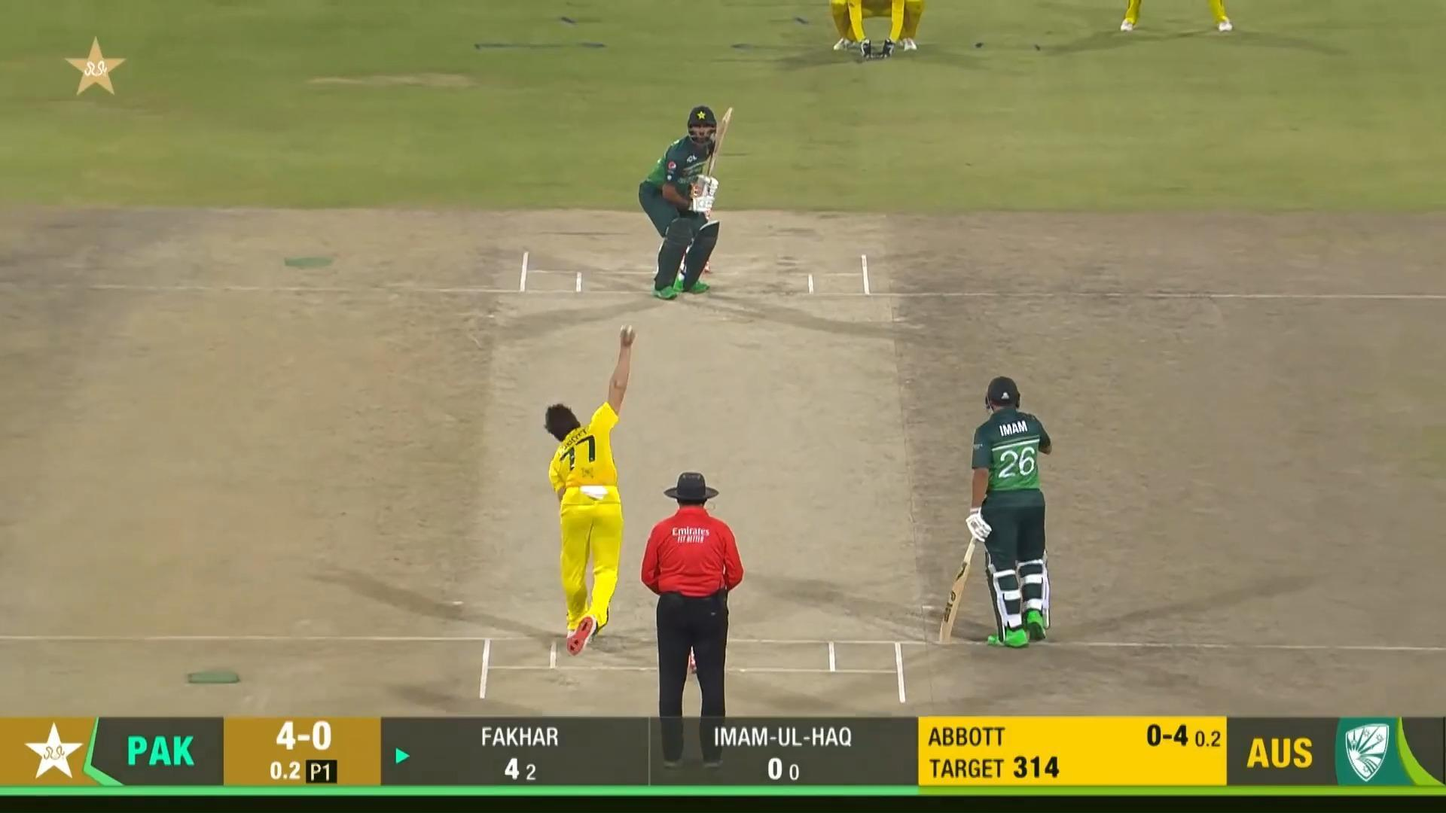BM 1: (638, 104, 735, 301)
BO: (542, 326, 639, 656)
